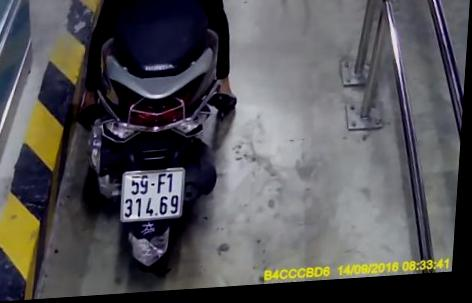License_Plate: (114, 164, 194, 226)
